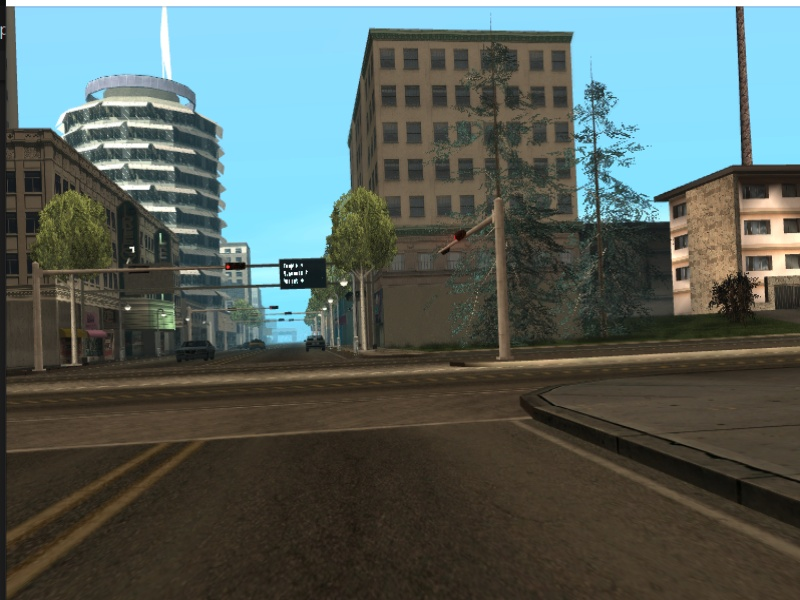pole: (488, 201, 519, 364), (24, 261, 48, 382), (66, 275, 80, 368), (186, 306, 194, 337)
tree: (355, 270, 369, 349), (333, 294, 346, 351)
vehicle: (169, 340, 217, 363), (302, 333, 326, 352), (250, 338, 264, 350)
